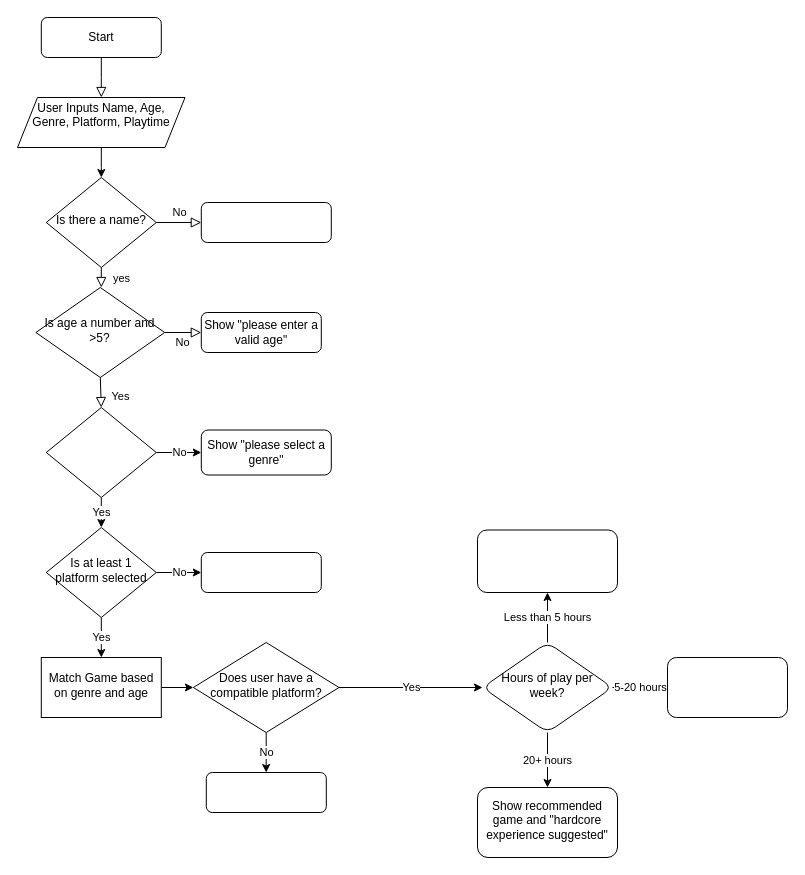
Some shapes in this 805 by 875 pixel diagram are drawn without their labels. Here are the shapes that lost their labels. From the top down, the centre of each, then its label:
pixel 265 222: Show "please enter name"
pixel 100 452: Is a genre selected?
pixel 260 572: Show "please select a platform"
pixel 547 560: Show recommended game and "casual play recommended"
pixel 727 687: Show recommended game
pixel 265 792: Show "no suitable game found"
